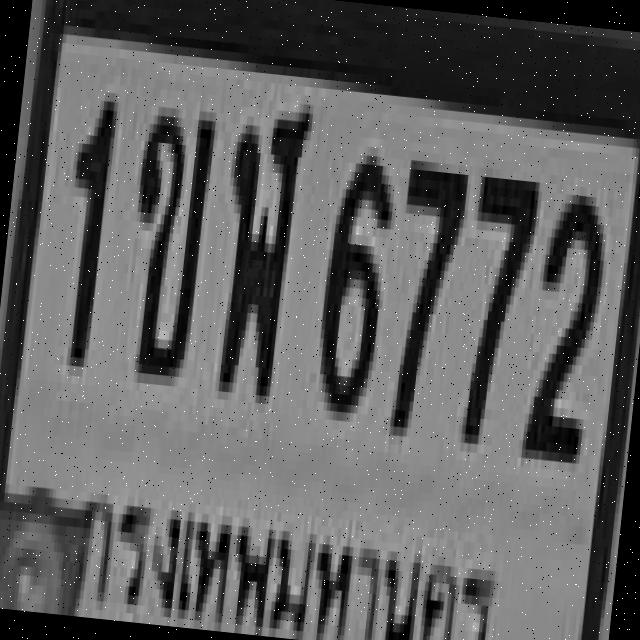1: (54, 90, 115, 358)
11KhorKhai: (117, 96, 214, 378)
2: (518, 183, 608, 454)
51LorChula: (208, 92, 310, 392)
6: (309, 143, 395, 414)
7: (380, 150, 466, 430), (451, 167, 537, 438)
Bangkok: (65, 457, 515, 640)
